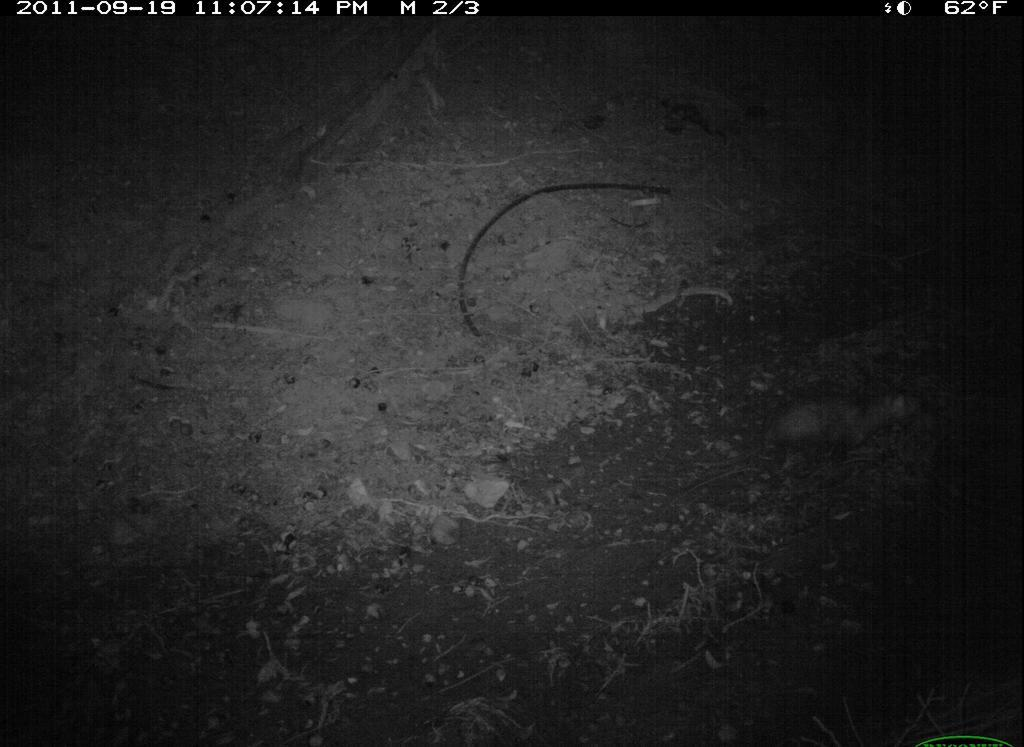opossum: (752, 376, 935, 482)
